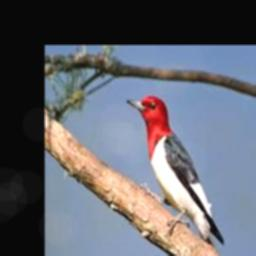Woodpecker: (127, 95, 225, 252)
